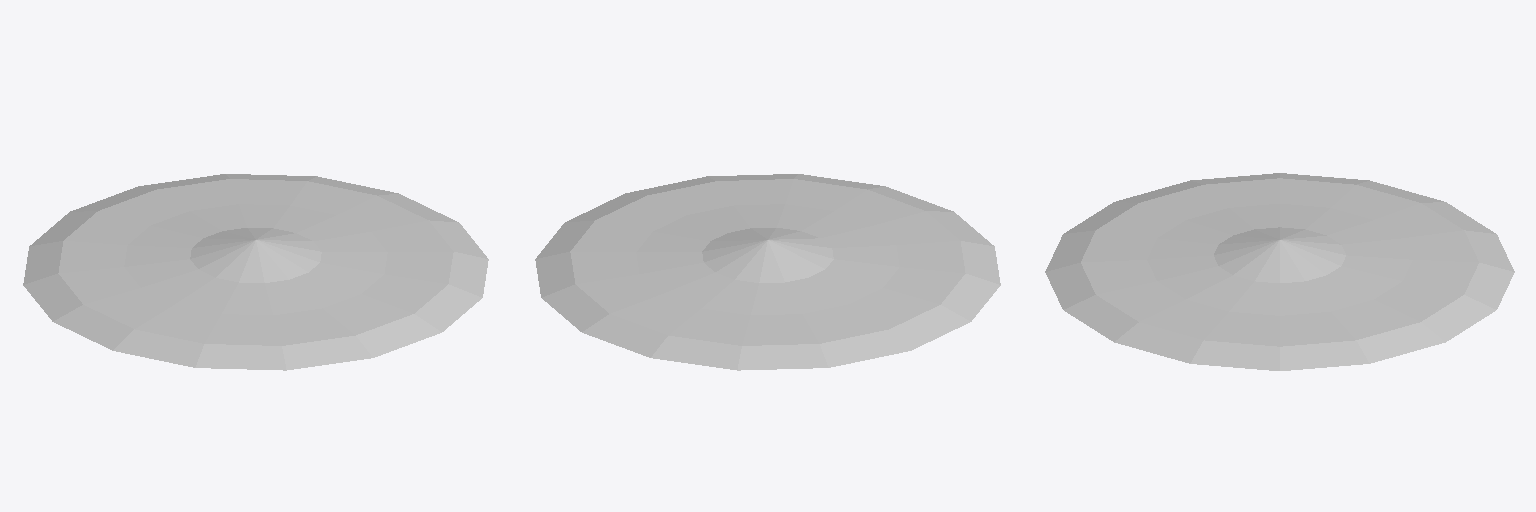
The model's file is Cymbal.obj.
3 renders of one model, left to right at view 1: azimuth 30°, elevation 25°; view 2: azimuth 150°, elevation 25°; view 3: azimuth 270°, elevation 25°, orthographic.
Visible parts, largest first — view 1: CrashCymbal; view 2: CrashCymbal; view 3: CrashCymbal.
Boxes of the visible parts, x1=… form: CrashCymbal: x1=23, y1=174, x2=488, y2=370; CrashCymbal: x1=535, y1=174, x2=1000, y2=370; CrashCymbal: x1=1045, y1=173, x2=1514, y2=370.
Size of the model in its own units: 3.53 by 0.269 by 3.53.